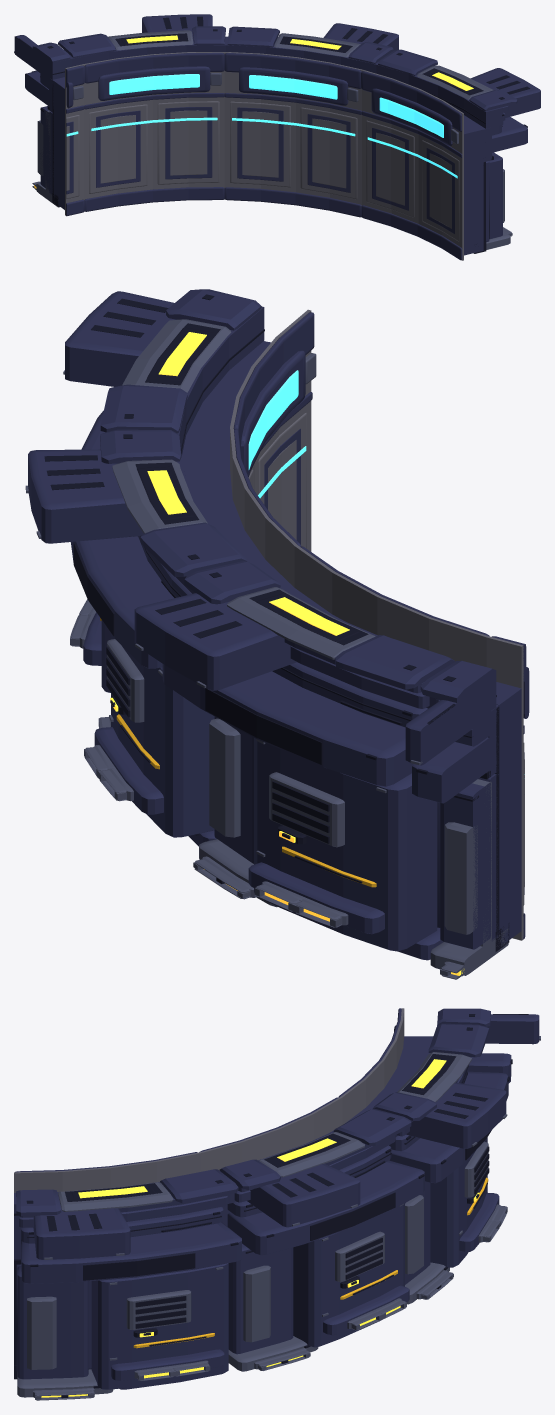
The model's file is hull.arc2.a.glb.
3 views of the same model, one above another, from view 1: azimuth 30°, elevation 25°; view 2: azimuth 150°, elevation 25°; view 3: azimuth 270°, elevation 25° (orthographic). The views are drawn at different scales.
Parts seen in each view (by area): view 1: GEO-hull.arc2.a; view 2: GEO-hull.arc2.a; view 3: GEO-hull.arc2.a.
Boxes of the visible parts, x1,y1,x2,y2 form: GEO-hull.arc2.a: (14, 14, 540, 260); GEO-hull.arc2.a: (25, 289, 529, 979); GEO-hull.arc2.a: (14, 1008, 540, 1400).
Bounding box in the file's own units: 2.43 × 1 × 2.43.
